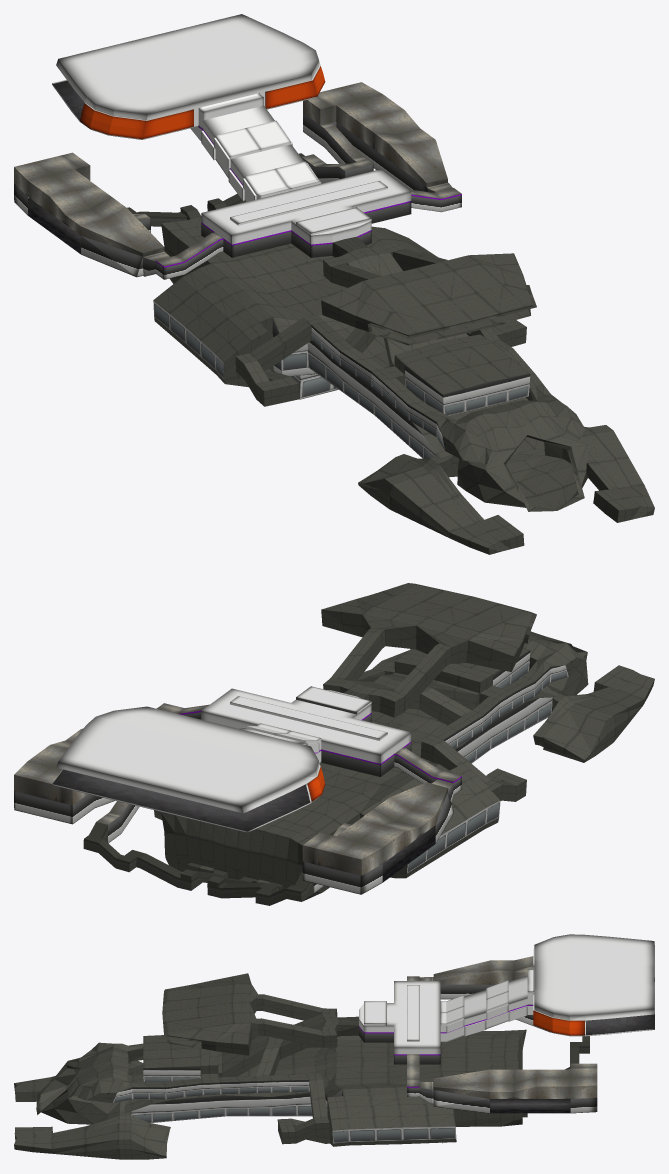
File: the_fearless_inside.DAE
3 views of the same model, one above another, from view 1: azimuth 30°, elevation 25°; view 2: azimuth 150°, elevation 25°; view 3: azimuth 270°, elevation 25° (orthographic). The views are drawn at different scales.
Visible parts, largest first — view 1: Box003; view 2: Box003; view 3: Box003.
Boxes of the visible parts, x1,y1,x2,y2 form: Box003: (14, 14, 654, 554); Box003: (14, 583, 654, 905); Box003: (14, 934, 654, 1159).
Bounding box in the file's own units: 196 × 104 × 405.
